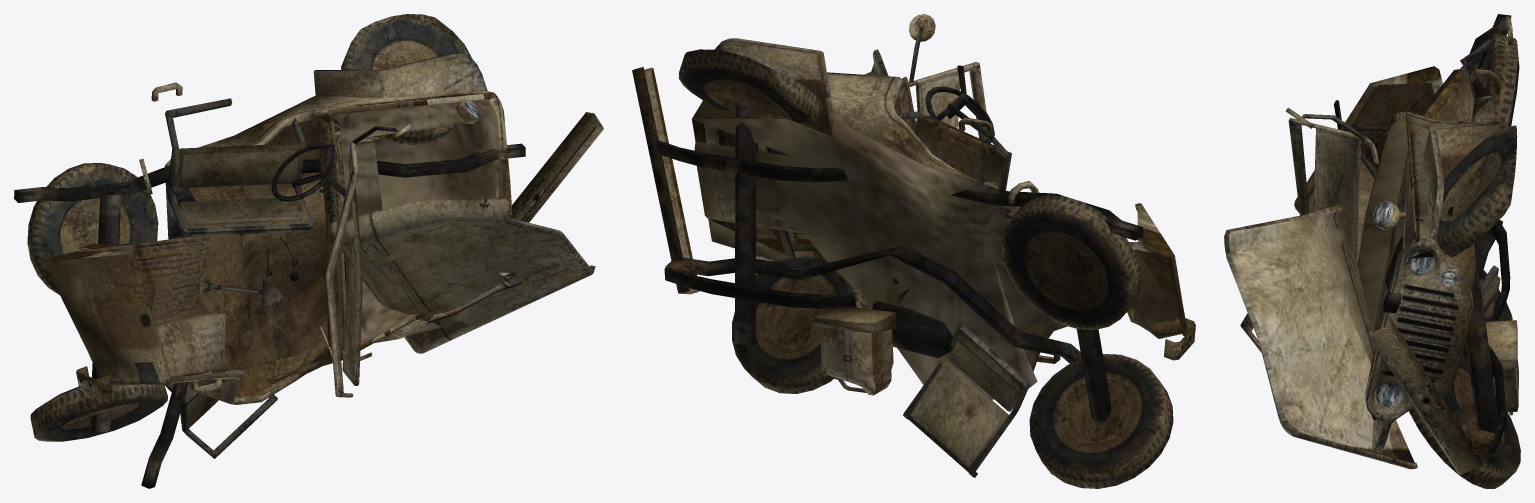
Rendered from vehicle_africa_jeep_dmg.glb.
The picture shows the model from 3 angles, left to right: view 1: azimuth 30°, elevation 25°; view 2: azimuth 150°, elevation 25°; view 3: azimuth 270°, elevation 25°; orthographic projection. The views are drawn at different scales.
Size of the model in its own units: 148 by 99.44 by 62.58.
1 material, 1 textured.
